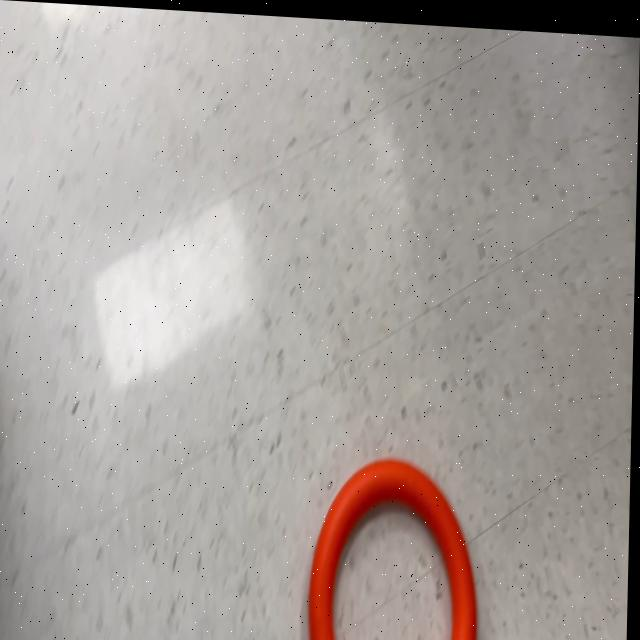note: (308, 450, 482, 640)
